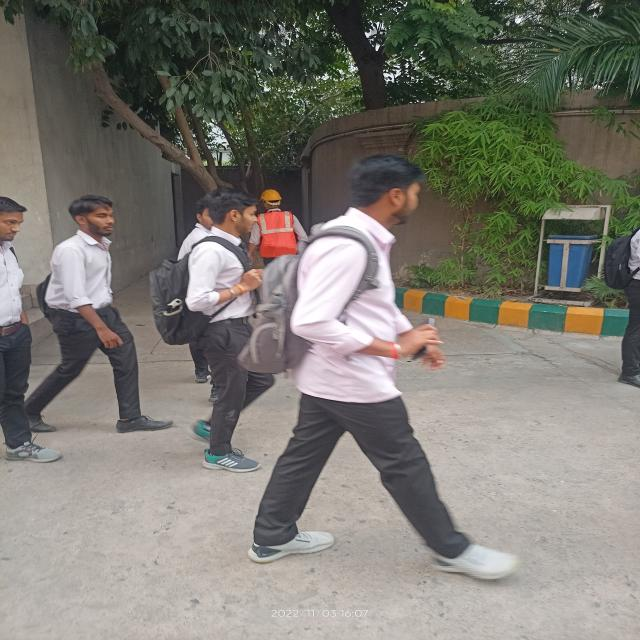safe: (248, 186, 310, 283)
unsafe: (245, 160, 522, 582), (151, 192, 288, 472), (36, 197, 173, 433), (2, 195, 58, 468)
